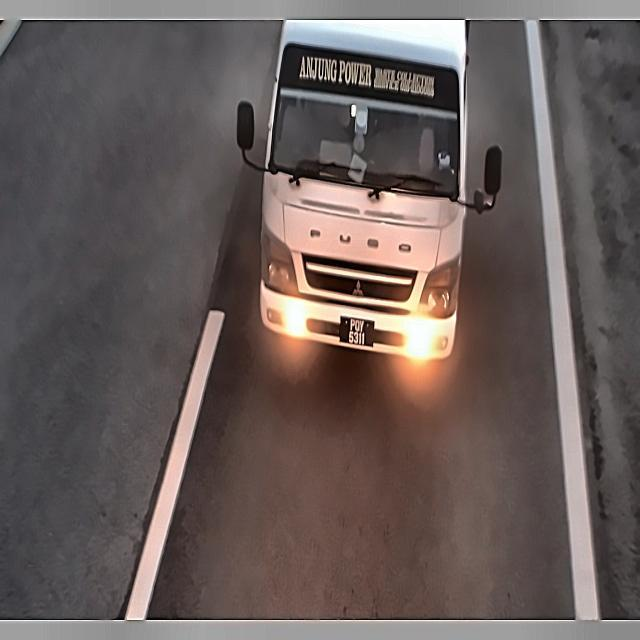car: (331, 304, 378, 356)
